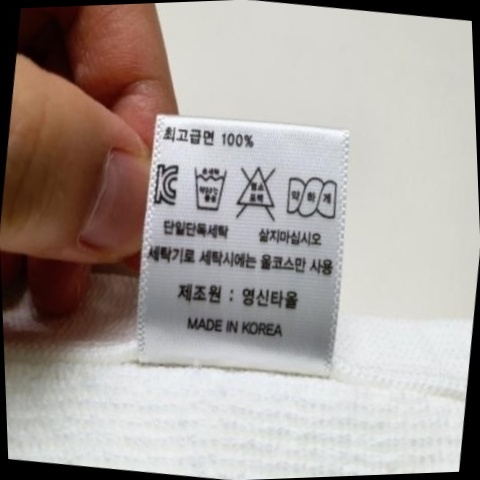hand_wash: (186, 163, 236, 218)
non_chlorine_bleach: (231, 158, 286, 226)
wring: (281, 172, 342, 224)
